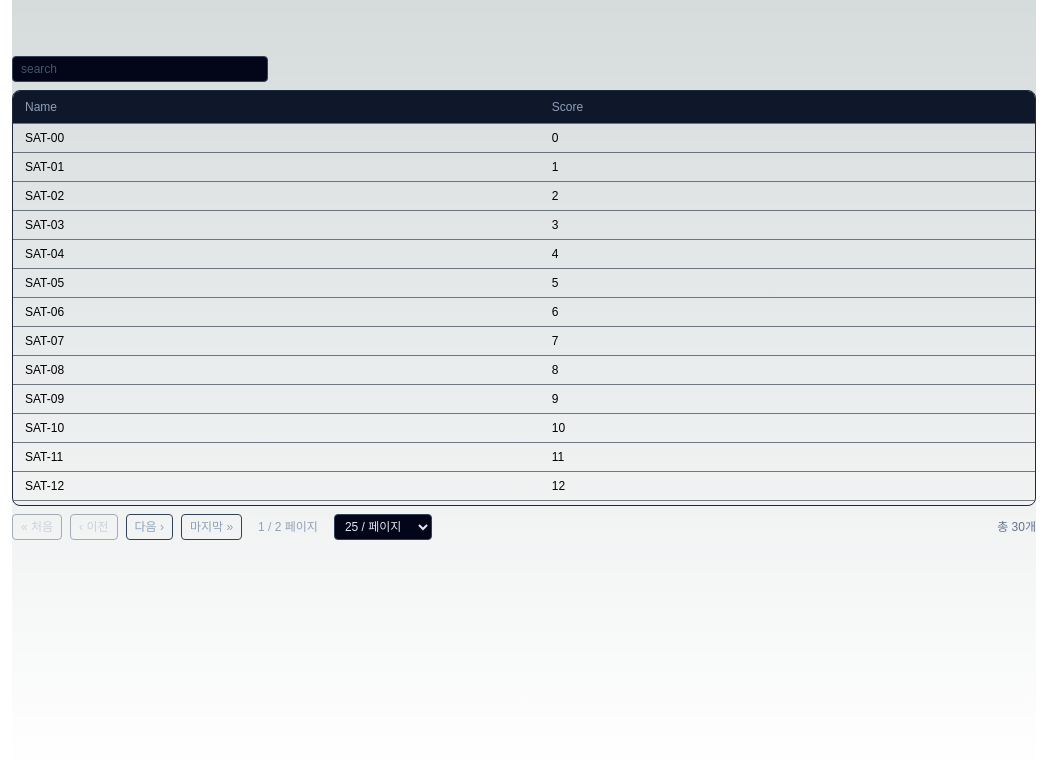
Scenario: DataTable (client-side) › narrows with the global filter
Type "SAT-07" into the field with placeholder "search" at (140, 69), box [12,56,268,82]
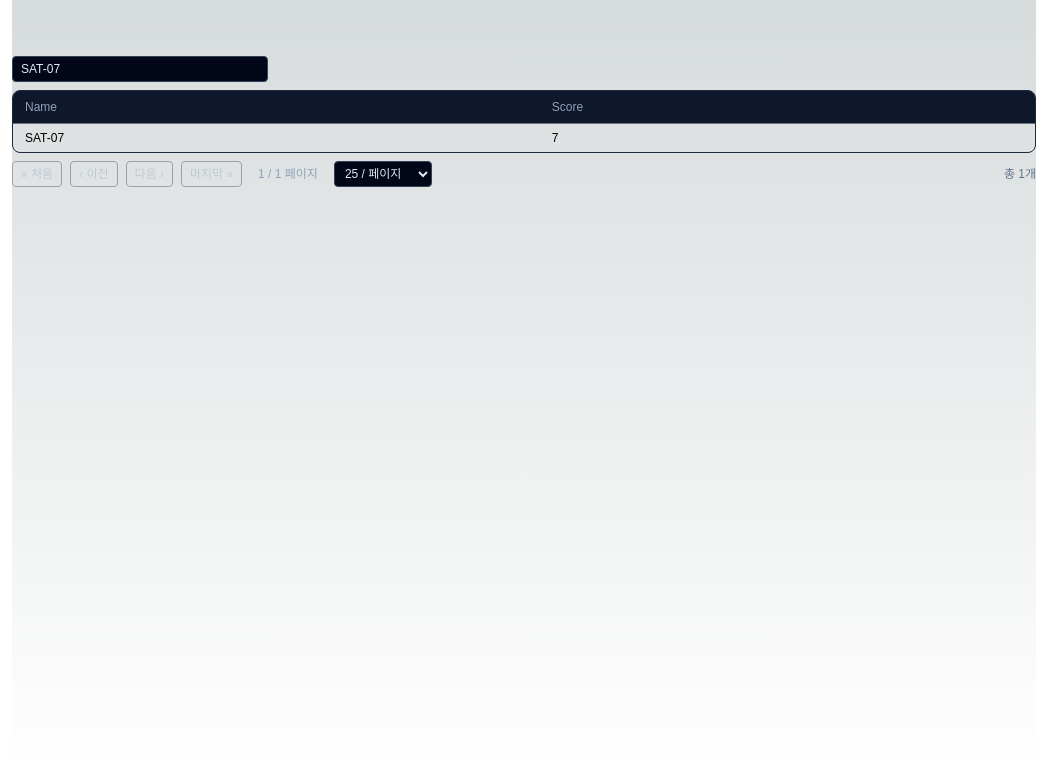
Expected: the text "SAT-07" is shown, [13,124,540,152]
Expected: the text "SAT-08" is gone
